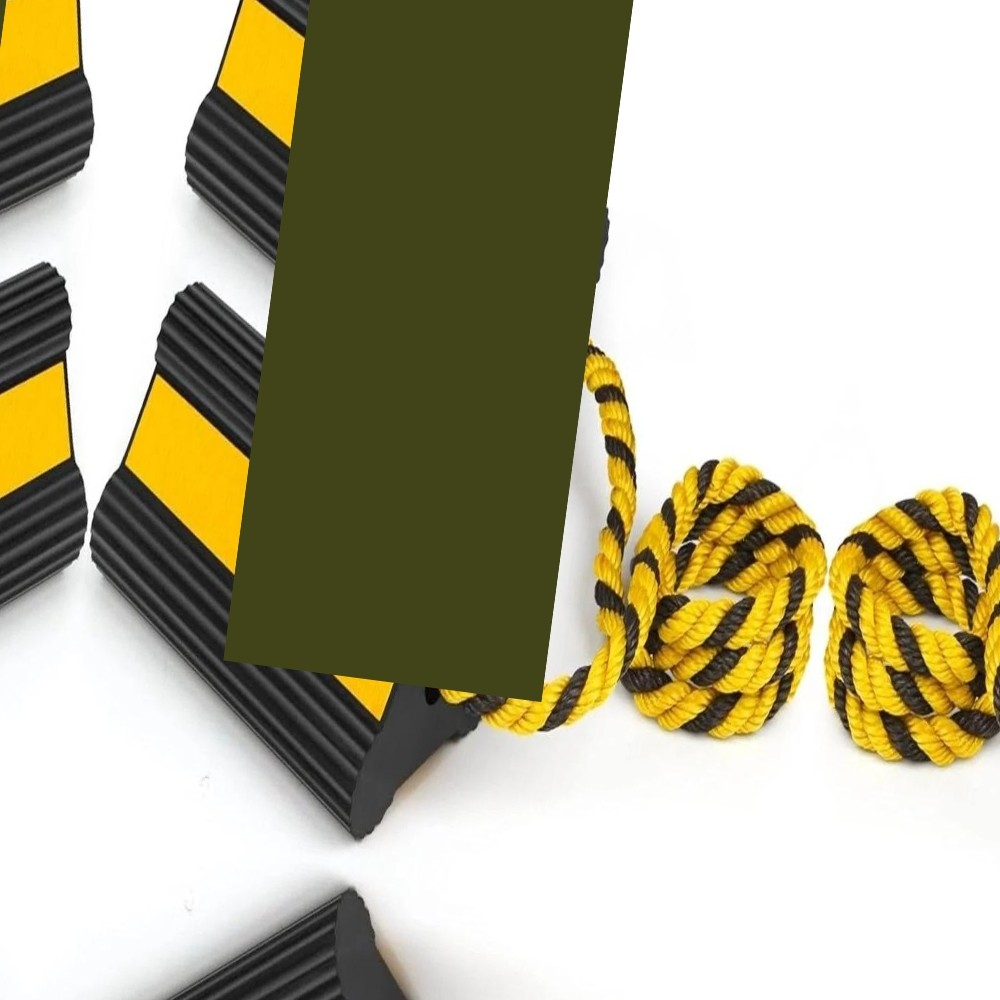chock: (52, 265, 552, 861), (152, 0, 651, 447)
